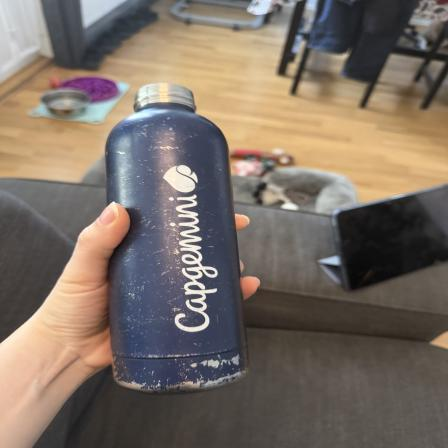blue_bottle: (106, 75, 248, 394)
